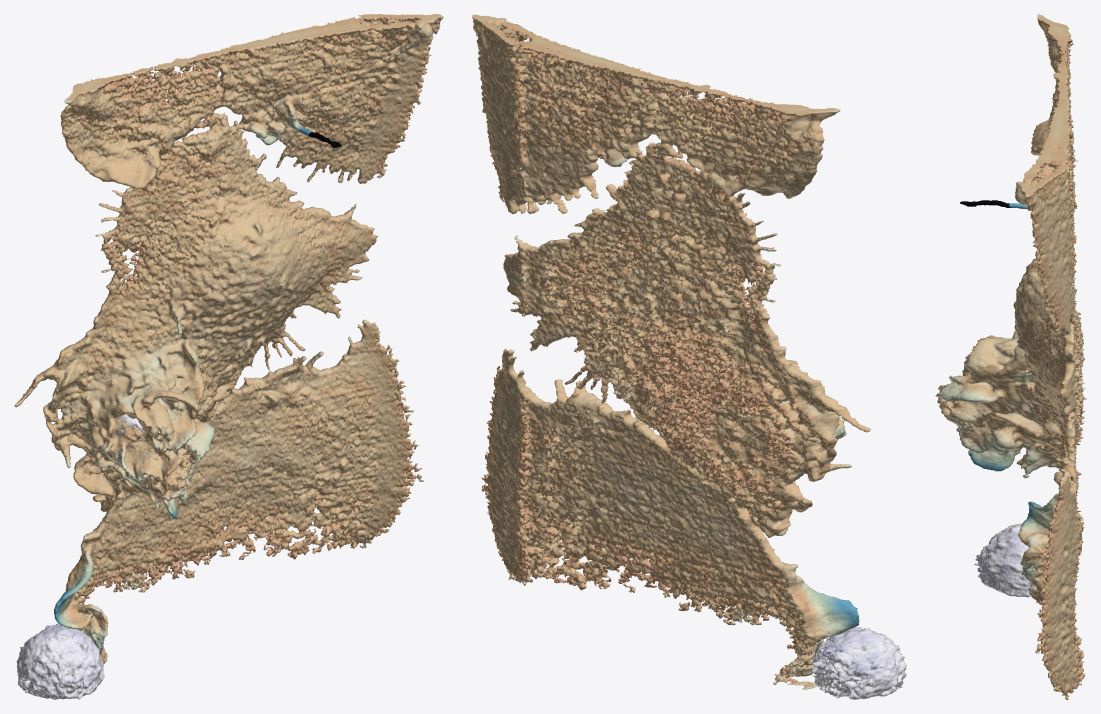
File: Surfaces_14.glb
The picture shows the model from 3 angles, left to right: view 1: azimuth 30°, elevation 25°; view 2: azimuth 150°, elevation 25°; view 3: azimuth 270°, elevation 25°; orthographic projection.
Visible parts, largest first — view 1: surface (×2); view 2: surface (×2); view 3: surface (×2).
Part boxes in pixels (x1,y1,x2,y2): surface (×2): (14, 14, 443, 699); surface (×2): (472, 14, 906, 699); surface (×2): (935, 14, 1086, 699).
Bounding box in the file's own units: 592 × 764 × 183.
